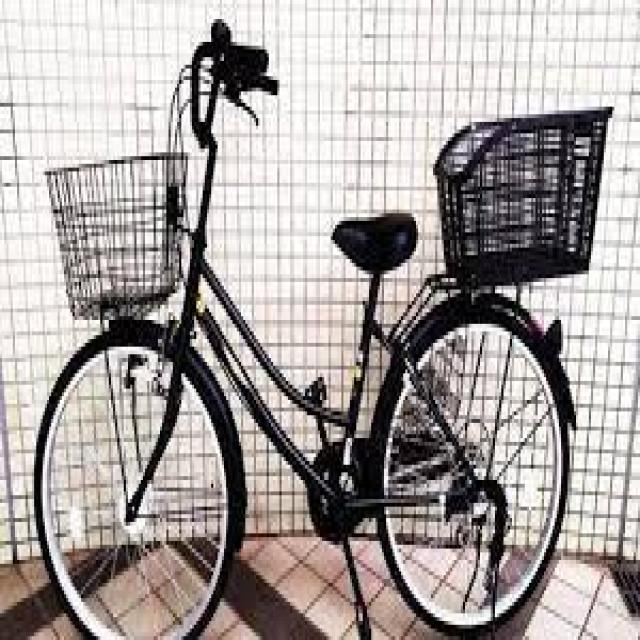basket: (433, 108, 612, 283), (47, 153, 190, 316)
